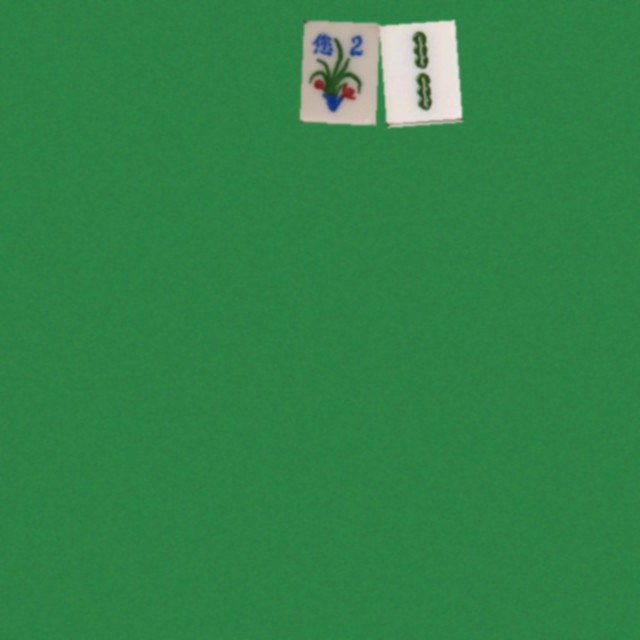tile: (299, 20, 375, 122), (379, 20, 455, 122)
